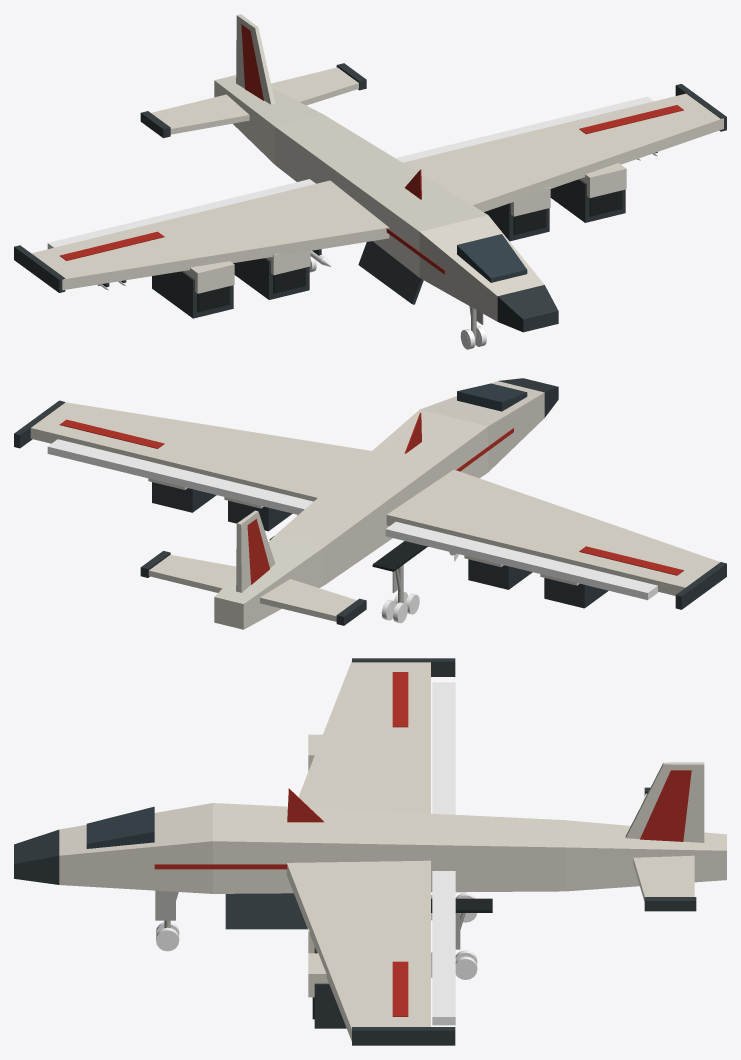
3 views of the same model, one above another, from view 1: azimuth 30°, elevation 25°; view 2: azimuth 150°, elevation 25°; view 3: azimuth 270°, elevation 25° (orthographic). The views are drawn at different scales.
Parts seen in each view (by area): view 1: bomber-fleet-armor, bomber-fleet-machine, bomber-fleet-red, bomber-fleet-rubber, bomber-fleet-glass, flap-left-painted, flap-right-painted; view 2: bomber-fleet-armor, bomber-fleet-machine, flap-left-painted, flap-right-painted, bomber-fleet-red, bomber-fleet-glass, bomber-fleet-rubber; view 3: bomber-fleet-armor, bomber-fleet-machine, bomber-fleet-red, flap-right-painted, flap-left-painted, bomber-fleet-glass, landing-gear-nose-fleet-edge, bomber-fleet-rubber.
Part boxes in pixels (box(x1,y1,x2,y2)): bomber-fleet-armor: box(31, 14, 723, 321); bomber-fleet-machine: box(14, 63, 726, 332); bomber-fleet-red: box(60, 24, 683, 274); bomber-fleet-rubber: box(197, 190, 622, 312); bomber-fleet-glass: box(457, 234, 527, 282); flap-left-painted: box(47, 179, 315, 248); flap-right-painted: box(395, 96, 653, 162); bomber-fleet-armor: box(30, 381, 720, 629); bomber-fleet-machine: box(14, 378, 726, 625); flap-left-painted: box(385, 521, 657, 600); flap-right-painted: box(47, 439, 313, 514); bomber-fleet-red: box(59, 412, 683, 584); bomber-fleet-glass: box(457, 383, 527, 411); bomber-fleet-rubber: box(269, 536, 427, 571); bomber-fleet-armor: box(59, 661, 726, 1041); bomber-fleet-machine: box(14, 658, 696, 1045); bomber-fleet-red: box(154, 672, 691, 1016); flap-right-painted: box(432, 871, 455, 1025); flap-left-painted: box(432, 682, 455, 814); bomber-fleet-glass: box(86, 806, 154, 848); landing-gear-nose-fleet-edge: box(155, 890, 178, 928); bomber-fleet-rubber: box(312, 898, 492, 1019).
Size of the model in its own units: 156 by 35.86 by 126.
